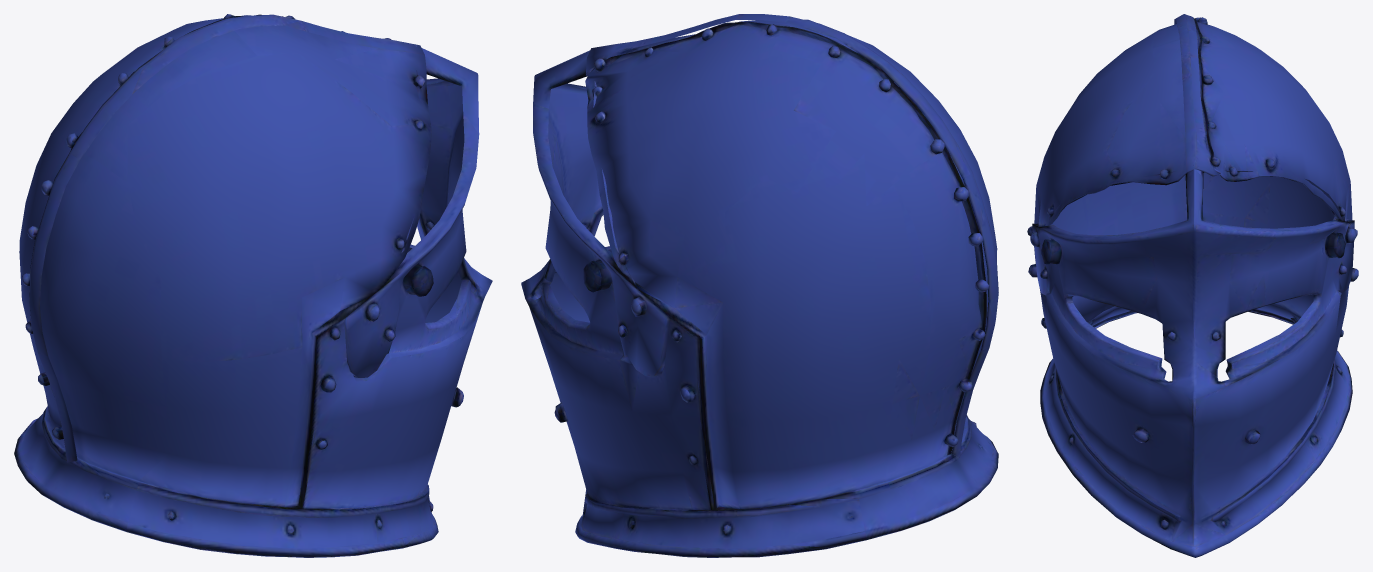
The model's file is mithril_full_helm.glb.
The picture shows the model from 3 angles, left to right: view 1: azimuth 30°, elevation 25°; view 2: azimuth 150°, elevation 25°; view 3: azimuth 270°, elevation 25°; orthographic projection. The views are drawn at different scales.
Visible parts, largest first — view 1: tripo_node_af3596da-f39c-445c-85cb-942779934b46; view 2: tripo_node_af3596da-f39c-445c-85cb-942779934b46; view 3: tripo_node_af3596da-f39c-445c-85cb-942779934b46.
Part boxes in pixels (<box>): tripo_node_af3596da-f39c-445c-85cb-942779934b46: <box>14,14,492,557</box>; tripo_node_af3596da-f39c-445c-85cb-942779934b46: <box>521,14,998,557</box>; tripo_node_af3596da-f39c-445c-85cb-942779934b46: <box>1027,14,1358,557</box>.
Size of the model in its own units: 0.8542 by 0.9611 by 0.6465.
1 material, 1 textured.
